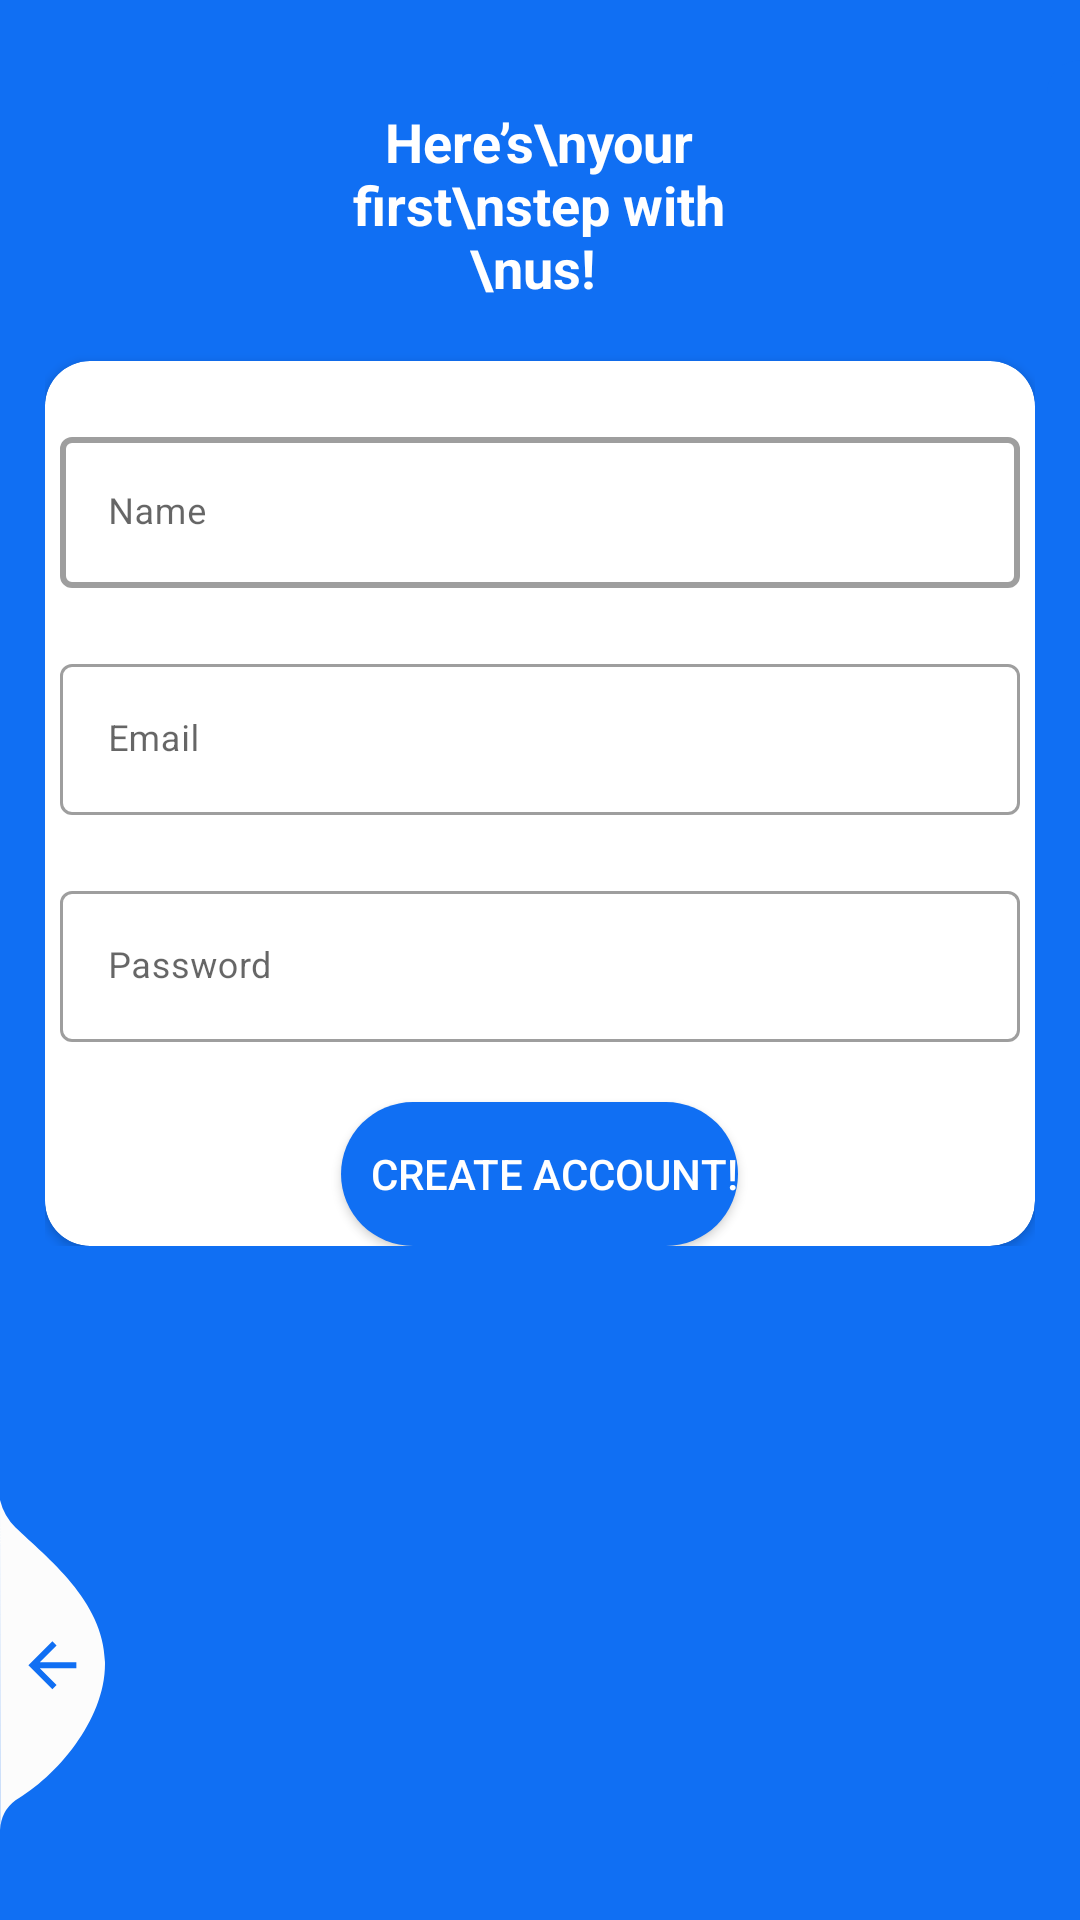

Point at icon controls on the screen. Image size 1080 x 1920, points as [x,y].
back: [52,1664]
